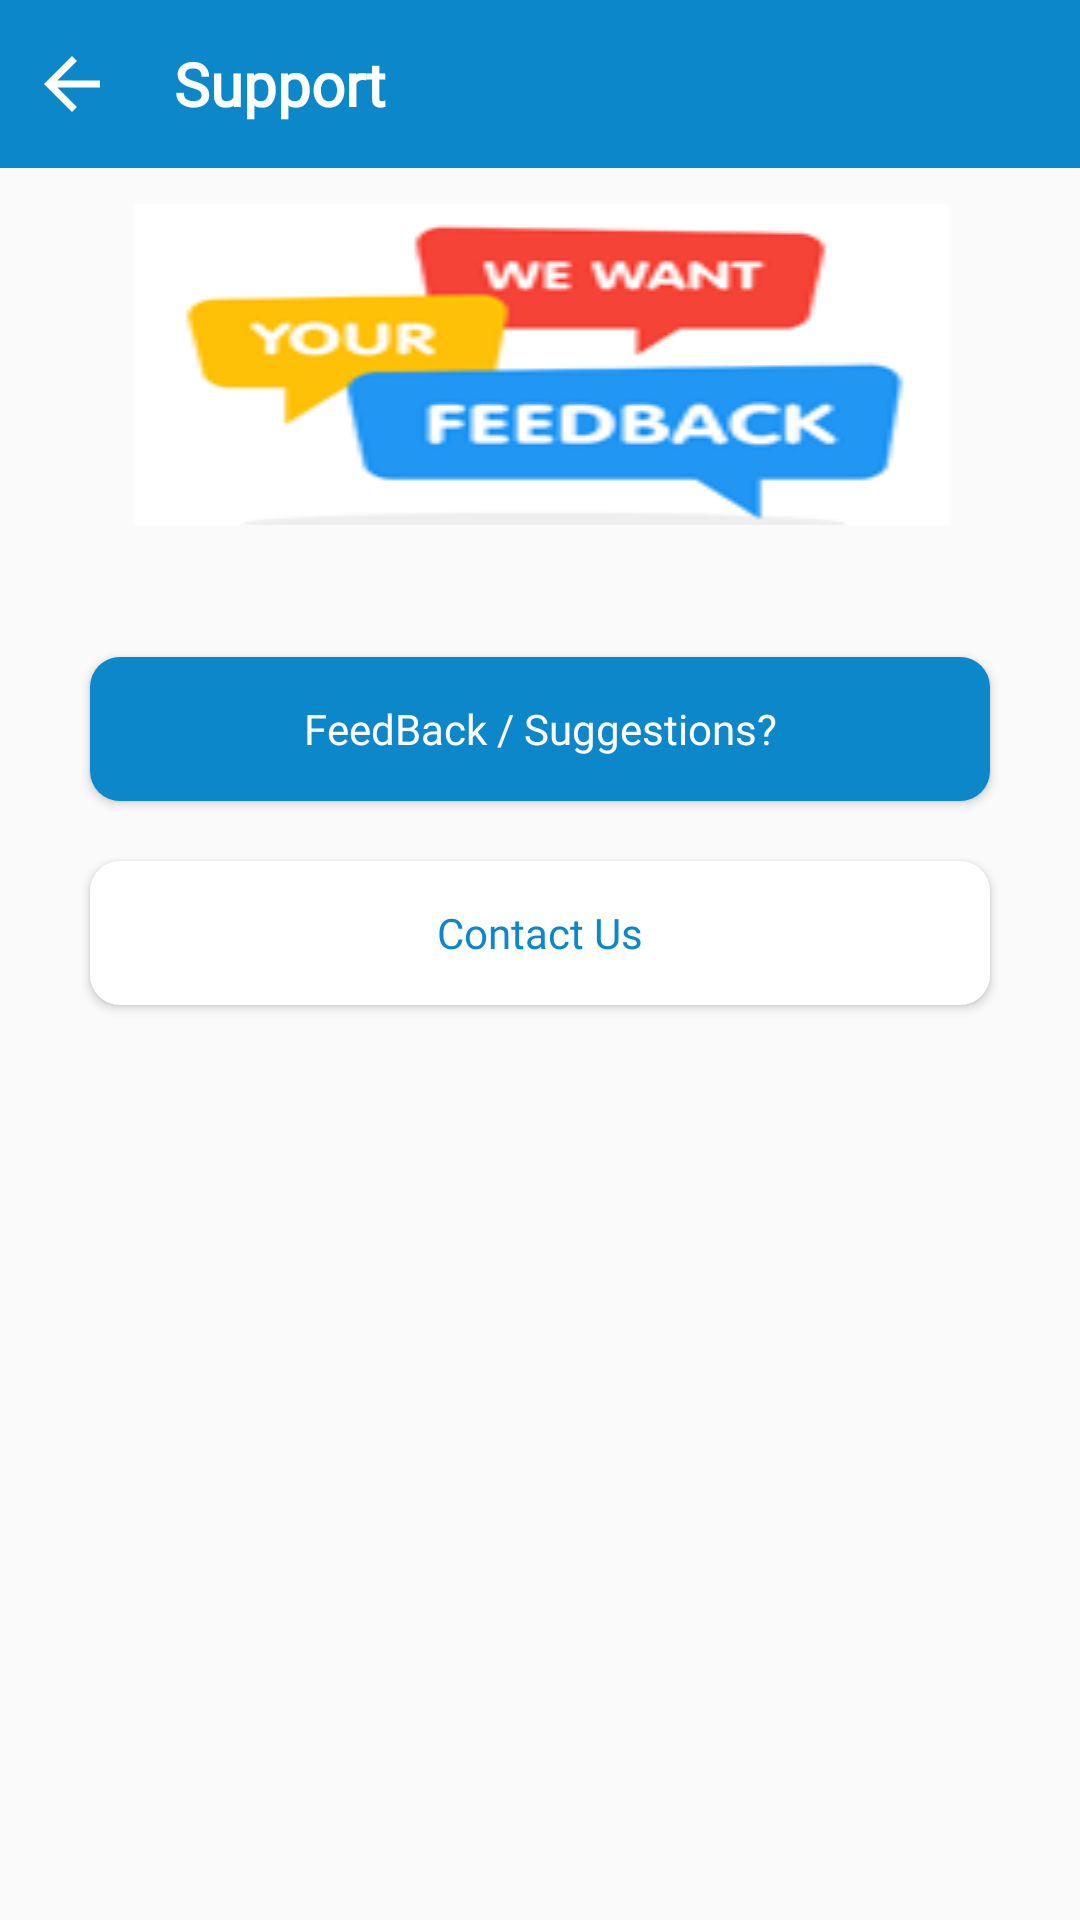

Icon click points for this 1080 × 1920 phone screenshot, format (x,y):
arrow back: (72,84)
